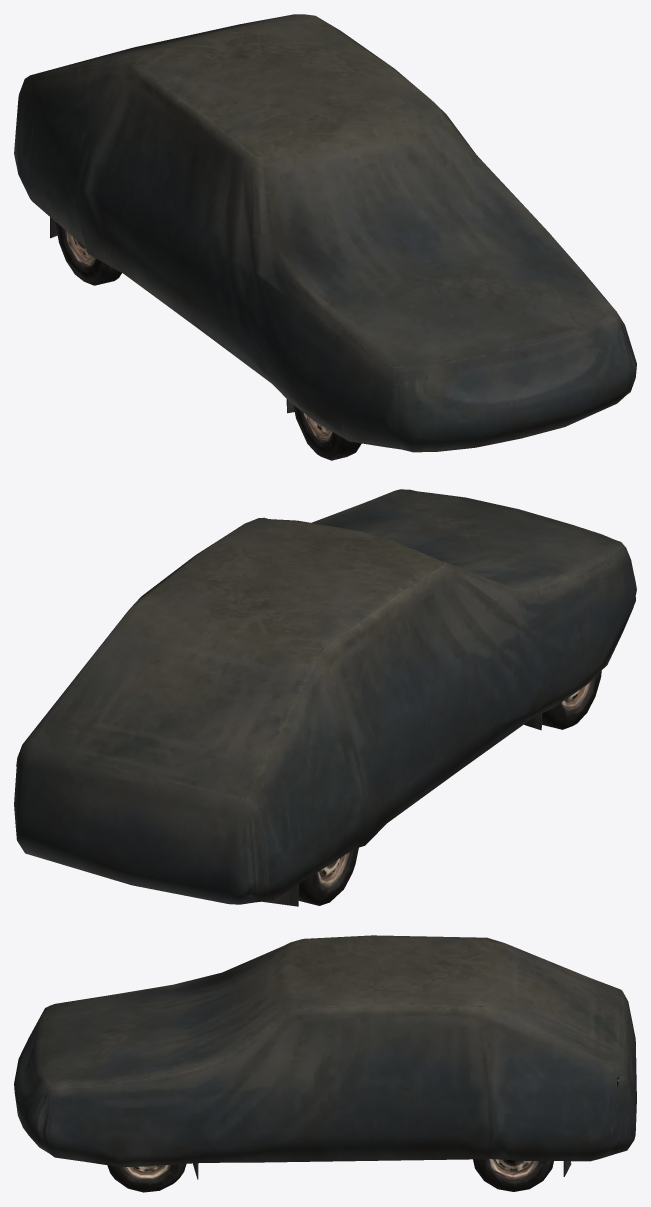
Rendered from covered_car.glb.
The picture shows the model from 3 angles, top to bottom: view 1: azimuth 30°, elevation 25°; view 2: azimuth 150°, elevation 25°; view 3: azimuth 270°, elevation 25°; orthographic projection. The views are drawn at different scales.
Visible parts, largest first — view 1: covered_car_wheel_01; view 2: covered_car_wheel_01; view 3: covered_car_wheel_01.
Boxes of the visible parts, x1=… form: covered_car_wheel_01: x1=14, y1=14, x2=636, y2=460; covered_car_wheel_01: x1=14, y1=489, x2=636, y2=906; covered_car_wheel_01: x1=14, y1=935, x2=636, y2=1192.
Size of the model in its own units: 1.79 by 1.41 by 4.38.
Materials: 1 (1 with a texture image).
